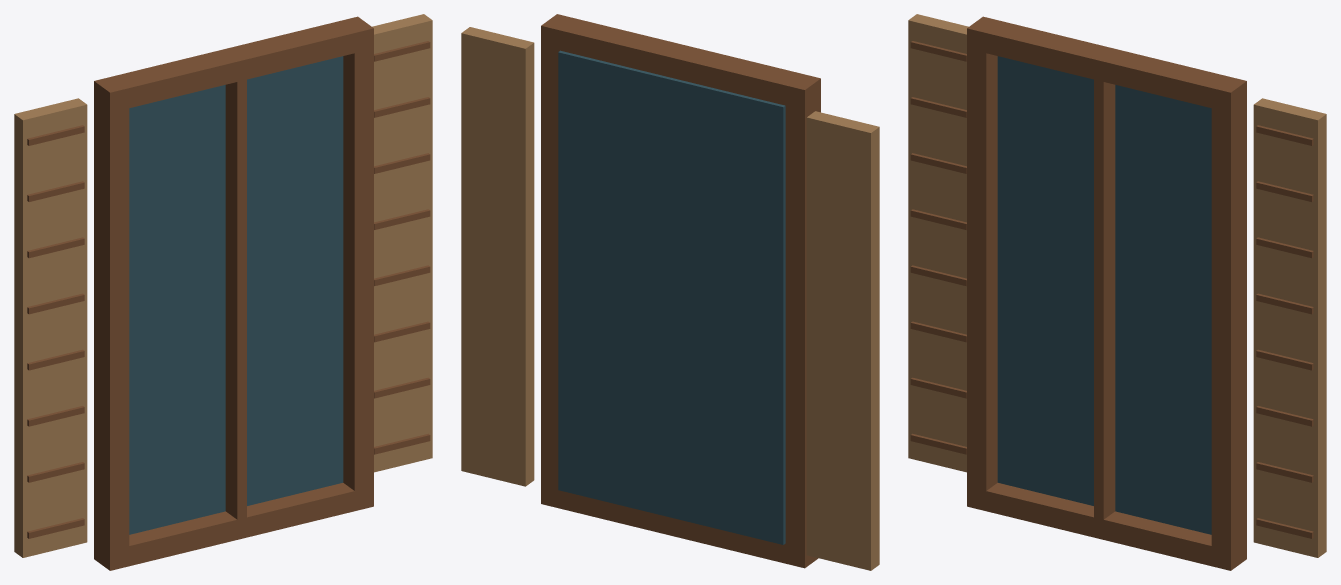
Rendered from window_09.glb.
The picture shows the model from 3 angles, left to right: view 1: azimuth 30°, elevation 25°; view 2: azimuth 150°, elevation 25°; view 3: azimuth 330°, elevation 25°; orthographic projection.
Visible parts, largest first — view 1: window_09; view 2: window_09; view 3: window_09.
Part boxes in pixels (x1,y1,x2,y2): window_09: (14, 14, 432, 570); window_09: (461, 14, 879, 570); window_09: (908, 14, 1326, 570).
Bounding box in the file's own units: 1.91 × 2.13 × 0.185.
